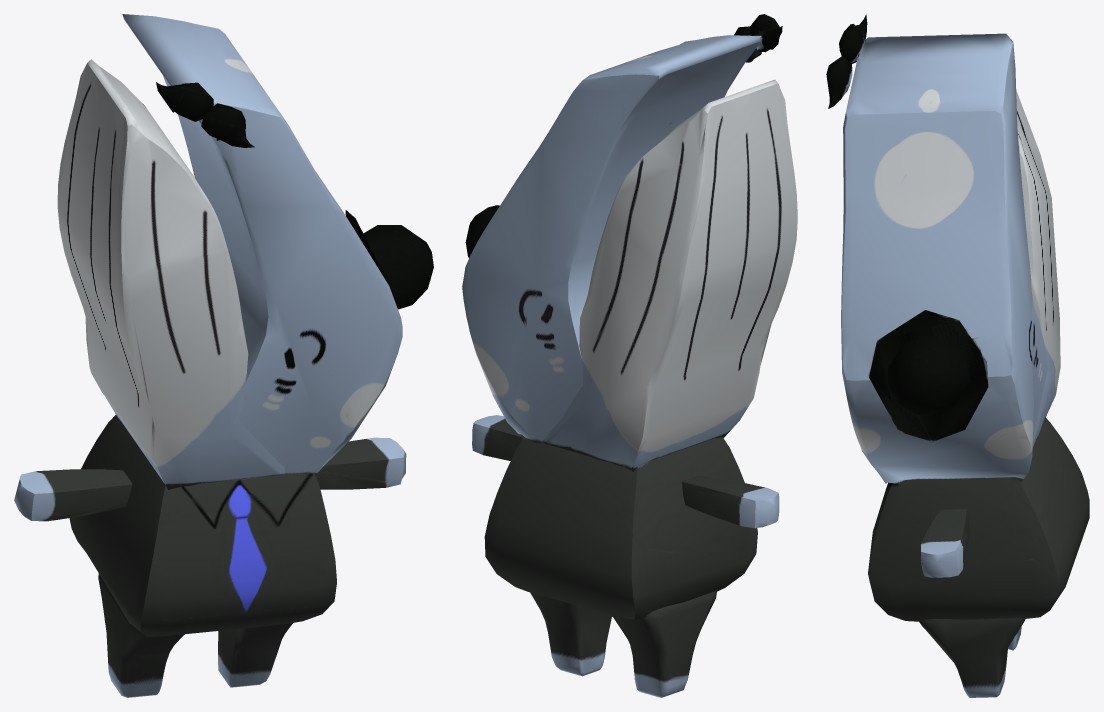
File: ballena.fbx
3 views of the same model, side by side, from view 1: azimuth 30°, elevation 25°; view 2: azimuth 150°, elevation 25°; view 3: azimuth 270°, elevation 25° (orthographic). The views are drawn at different scales.
Parts seen in each view (by area): view 1: node_id4; view 2: node_id4; view 3: node_id4.
Part boxes in pixels (x1,y1,x2,y2): node_id4: [14, 14, 433, 697]; node_id4: [462, 14, 797, 697]; node_id4: [826, 14, 1089, 697].
Size of the model in its own units: 0.289 by 0.5113 by 0.1989.
1 material, 1 textured.
